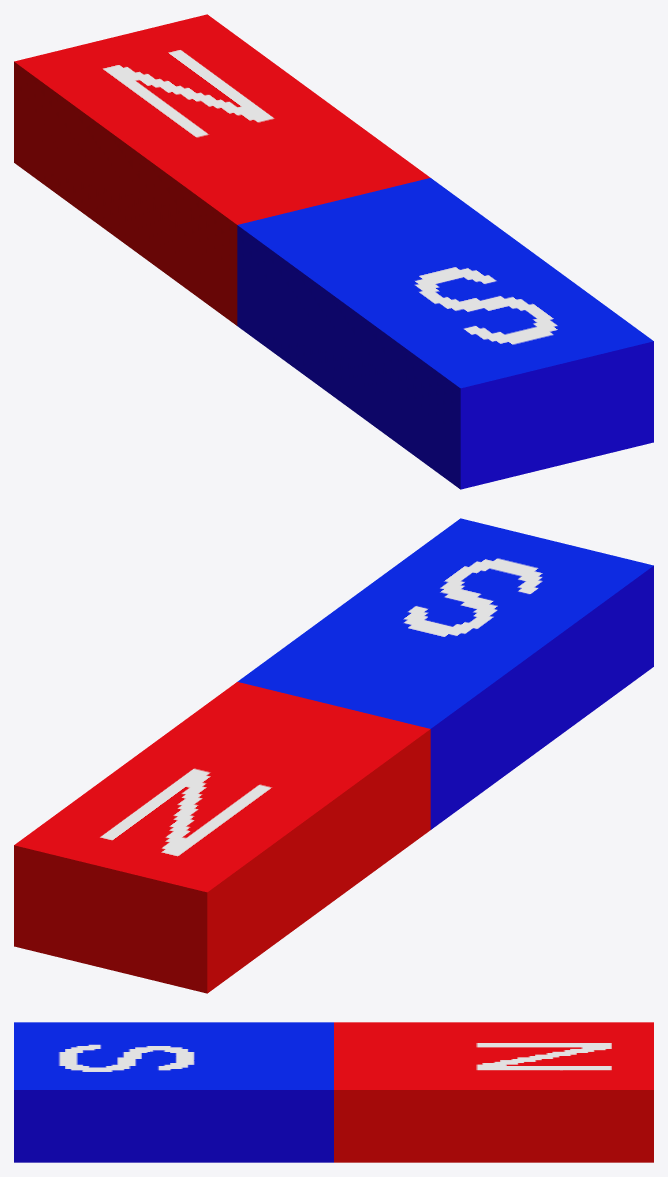
The model's file is Magnet.FBX.
3 views of the same model, one above another, from view 1: azimuth 30°, elevation 25°; view 2: azimuth 150°, elevation 25°; view 3: azimuth 270°, elevation 25° (orthographic). The views are drawn at different scales.
Visible parts, largest first — view 1: Box001; view 2: Box001; view 3: Box001.
Part boxes in pixels (x1=…): Box001: x1=14, y1=14, x2=653, y2=489; Box001: x1=14, y1=518, x2=653, y2=993; Box001: x1=14, y1=1022, x2=653, y2=1162.
Bounding box in the file's own units: 40 × 20 × 160.
Materials: 4 (2 with a texture image).
